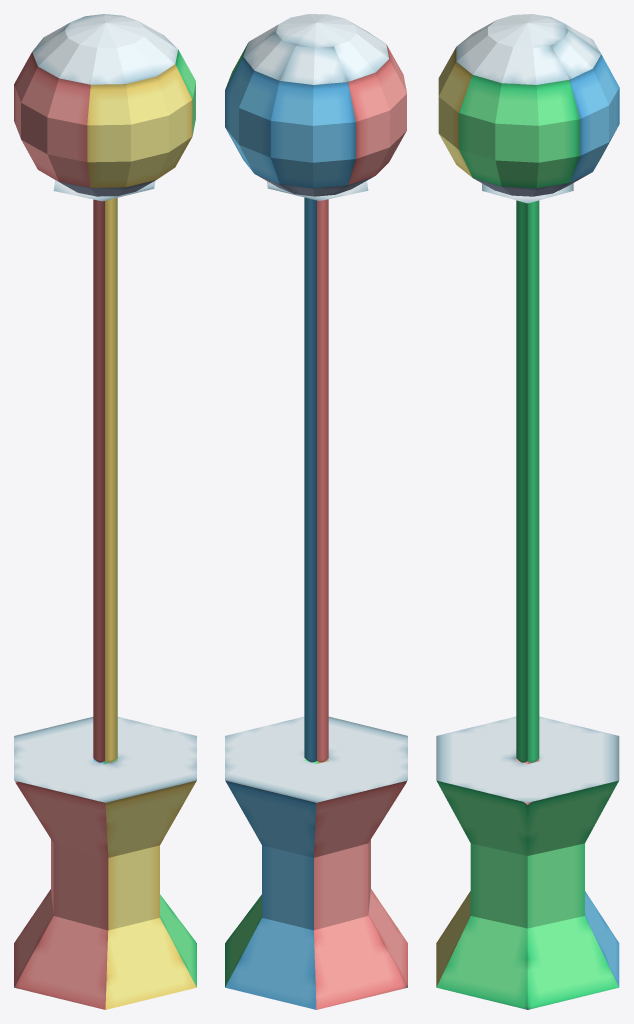
File: poste.obj
The picture shows the model from 3 angles, left to right: view 1: azimuth 30°, elevation 25°; view 2: azimuth 150°, elevation 25°; view 3: azimuth 270°, elevation 25°; orthographic projection.
Parts seen in each view (by area): view 1: cylinder, sphere; view 2: cylinder, sphere; view 3: cylinder, sphere.
Boxes of the visible parts, bbox=[...] form: cylinder: bbox=[14, 180, 196, 1009]; sphere: bbox=[14, 14, 195, 196]; cylinder: bbox=[225, 181, 407, 1009]; sphere: bbox=[225, 14, 406, 196]; cylinder: bbox=[436, 183, 619, 1009]; sphere: bbox=[438, 14, 619, 196].
Size of the model in its own units: 1.15 by 5.69 by 1.
1 material, 1 textured.
